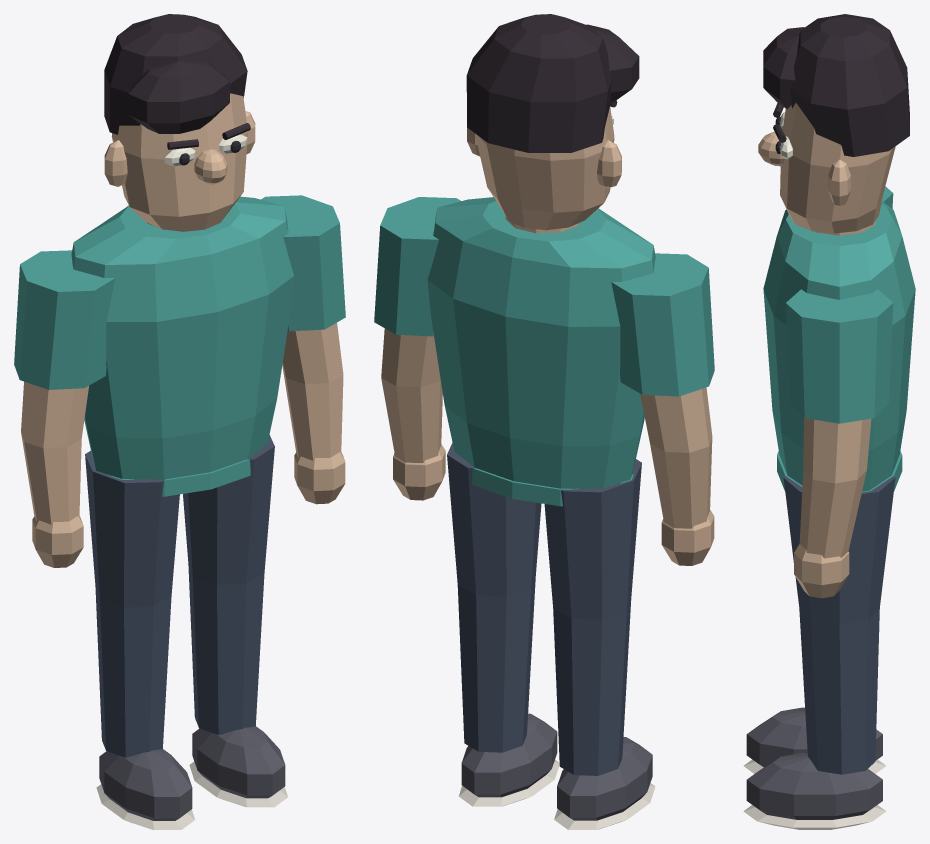
The model's file is npc.glb.
The picture shows the model from 3 angles, left to right: view 1: azimuth 30°, elevation 25°; view 2: azimuth 150°, elevation 25°; view 3: azimuth 270°, elevation 25°; orthographic projection. The views are drawn at different scales.
Visible parts, largest first — view 1: Torso, Leg, Leg.001, Sleeve, Face, Hair, Arm, Sleeve.001, Arm.001, Fringe, Shoe.001, Shoe (+7 smaller); view 2: Torso, Leg, Leg.001, Hair, Sleeve, Face, Arm, Sleeve.001, Arm.001, Shoe.001, Shoe, Hand (+6 smaller); view 3: Torso, Leg.001, Hair, Sleeve.001, Face, Arm.001, Shoe.001, Shoe, Fringe, Hand.001, Sole.001, Ear.001 (+2 smaller).
Boxes of the visible parts, left/top/right/bottom form: Torso: left=71, top=196, right=293, bottom=479; Leg: left=85, top=450, right=179, bottom=757; Leg.001: left=183, top=435, right=274, bottom=734; Sleeve: left=14, top=250, right=115, bottom=389; Face: left=111, top=93, right=247, bottom=231; Hair: left=104, top=14, right=247, bottom=134; Arm: left=21, top=381, right=88, bottom=524; Sleeve.001: left=261, top=195, right=345, bottom=331; Arm.001: left=282, top=323, right=343, bottom=460; Fringe: left=128, top=61, right=229, bottom=133; Shoe.001: left=192, top=726, right=285, bottom=798; Shoe: left=99, top=749, right=192, bottom=820; Torso: left=427, top=197, right=655, bottom=488; Leg: left=544, top=459, right=641, bottom=775; Leg.001: left=447, top=442, right=541, bottom=752; Hair: left=466, top=14, right=611, bottom=152; Sleeve: left=611, top=253, right=714, bottom=396; Face: left=475, top=106, right=614, bottom=230; Arm: left=640, top=387, right=712, bottom=528; Sleeve.001: left=374, top=197, right=461, bottom=336; Arm.001: left=381, top=328, right=442, bottom=462; Shoe.001: left=461, top=713, right=557, bottom=797; Shoe: left=557, top=737, right=652, bottom=820; Hand: left=661, top=509, right=714, bottom=565; Torso: left=763, top=201, right=915, bottom=491; Leg.001: left=783, top=476, right=895, bottom=774; Hair: left=789, top=14, right=909, bottom=156; Sleeve.001: left=786, top=289, right=893, bottom=423; Face: left=780, top=103, right=895, bottom=233; Arm.001: left=799, top=417, right=871, bottom=558; Shoe.001: left=746, top=753, right=882, bottom=819; Shoe: left=746, top=707, right=882, bottom=767; Fringe: left=763, top=27, right=804, bottom=108; Hand.001: left=794, top=544, right=849, bottom=598; Sole.001: left=743, top=805, right=886, bottom=829; Ear.001: left=828, top=159, right=850, bottom=206.
Size of the model in its own units: 0.828 by 1.9 by 0.385.
